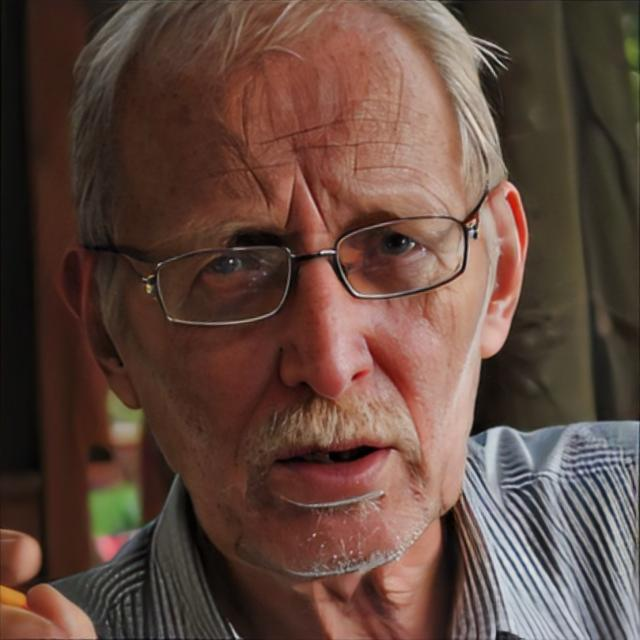sad: (142, 6, 486, 578)
